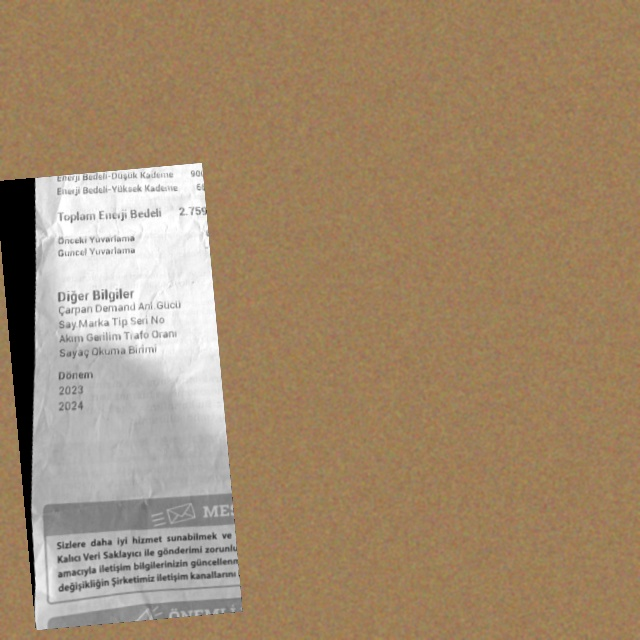electricity-bill: (0, 162, 242, 630)
